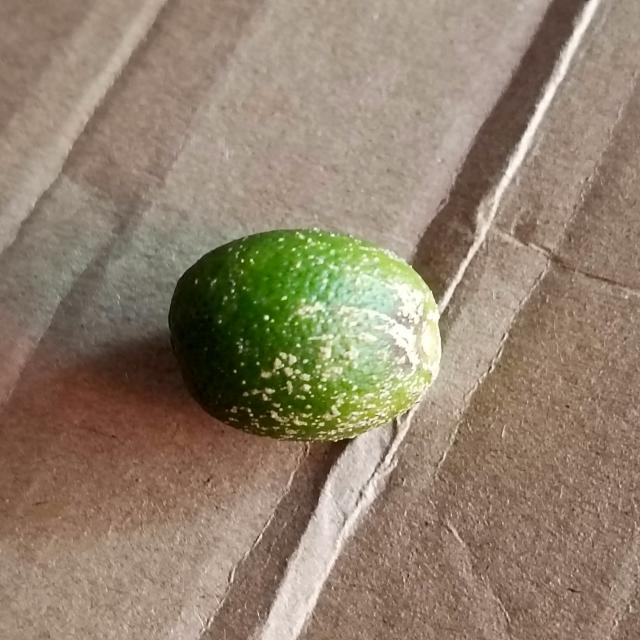scab: (162, 227, 449, 449)
